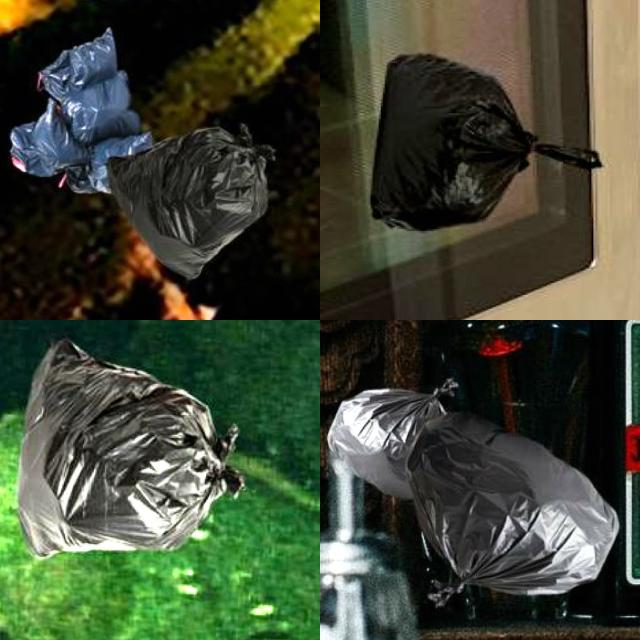Single-layer Plastic: (19, 340, 241, 558), (408, 412, 619, 606), (372, 54, 601, 230), (108, 128, 271, 280), (328, 379, 456, 499)
